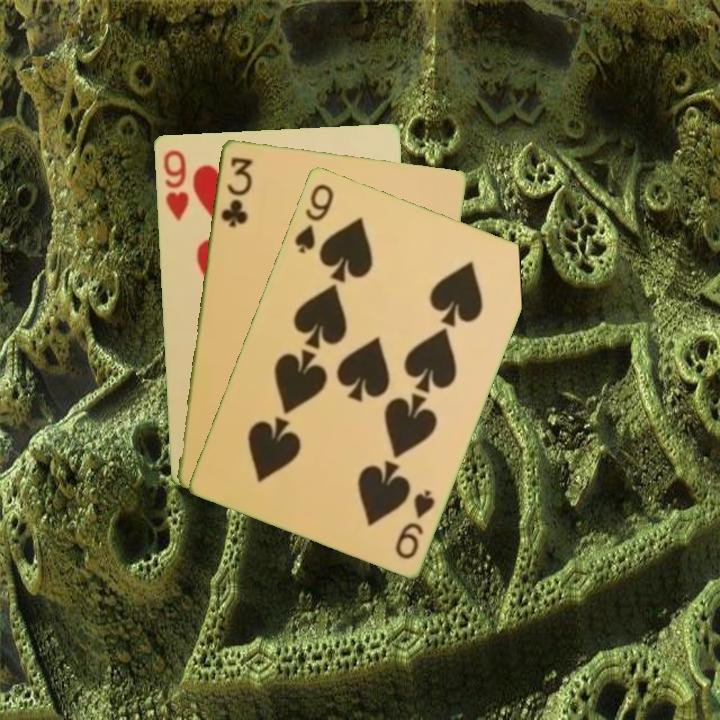3c: (217, 152, 255, 230)
9h: (159, 146, 192, 223)
9s: (391, 485, 438, 562), (291, 180, 337, 256)
